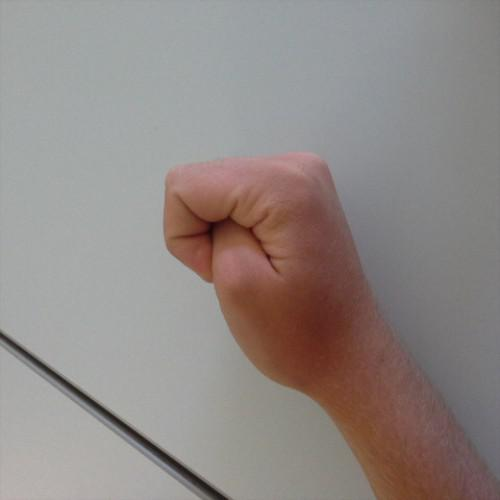rock: (156, 146, 373, 405)
